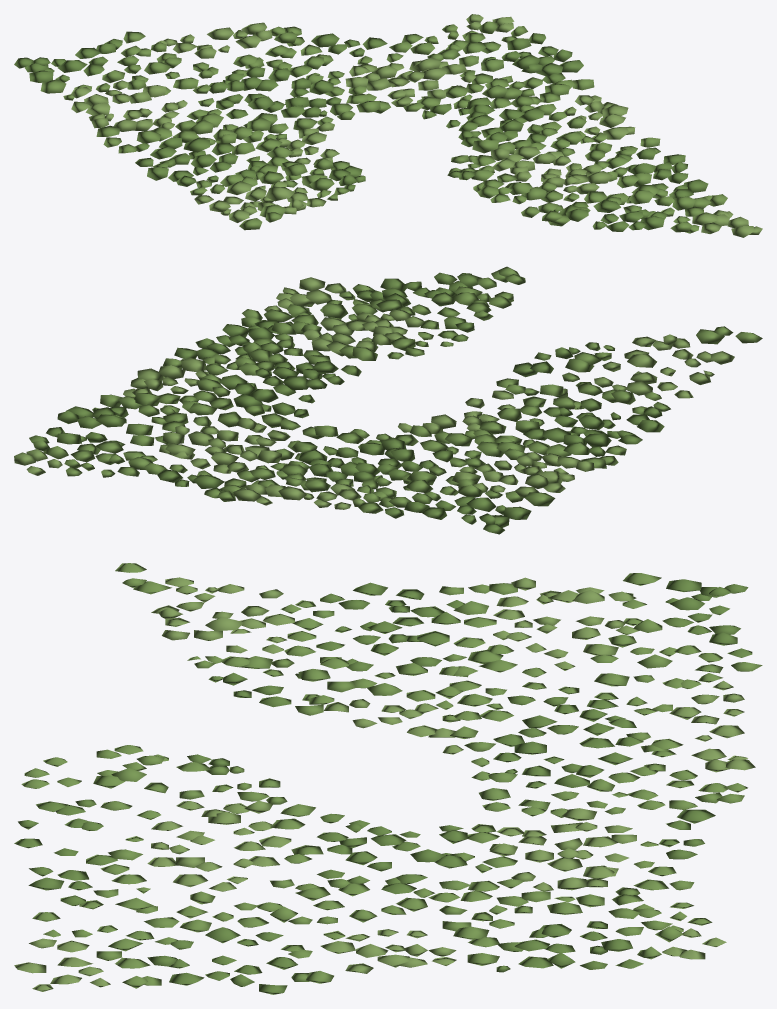
File: canopy-1-3-5.glb
The picture shows the model from 3 angles, top to bottom: view 1: azimuth 30°, elevation 25°; view 2: azimuth 150°, elevation 25°; view 3: azimuth 270°, elevation 25°; orthographic projection. The views are drawn at different scales.
Size of the model in its own units: 515 by 102 by 520.
Materials: 1 (1 with a texture image).
